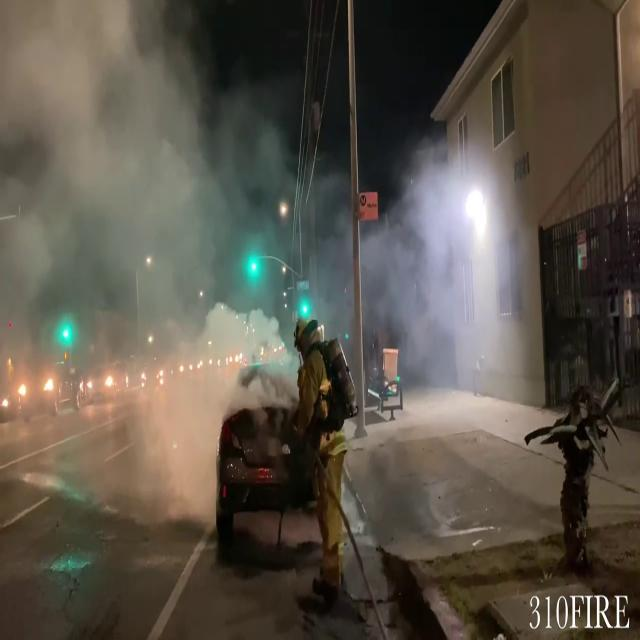Smoke: (0, 1, 256, 514), (310, 131, 528, 477)
